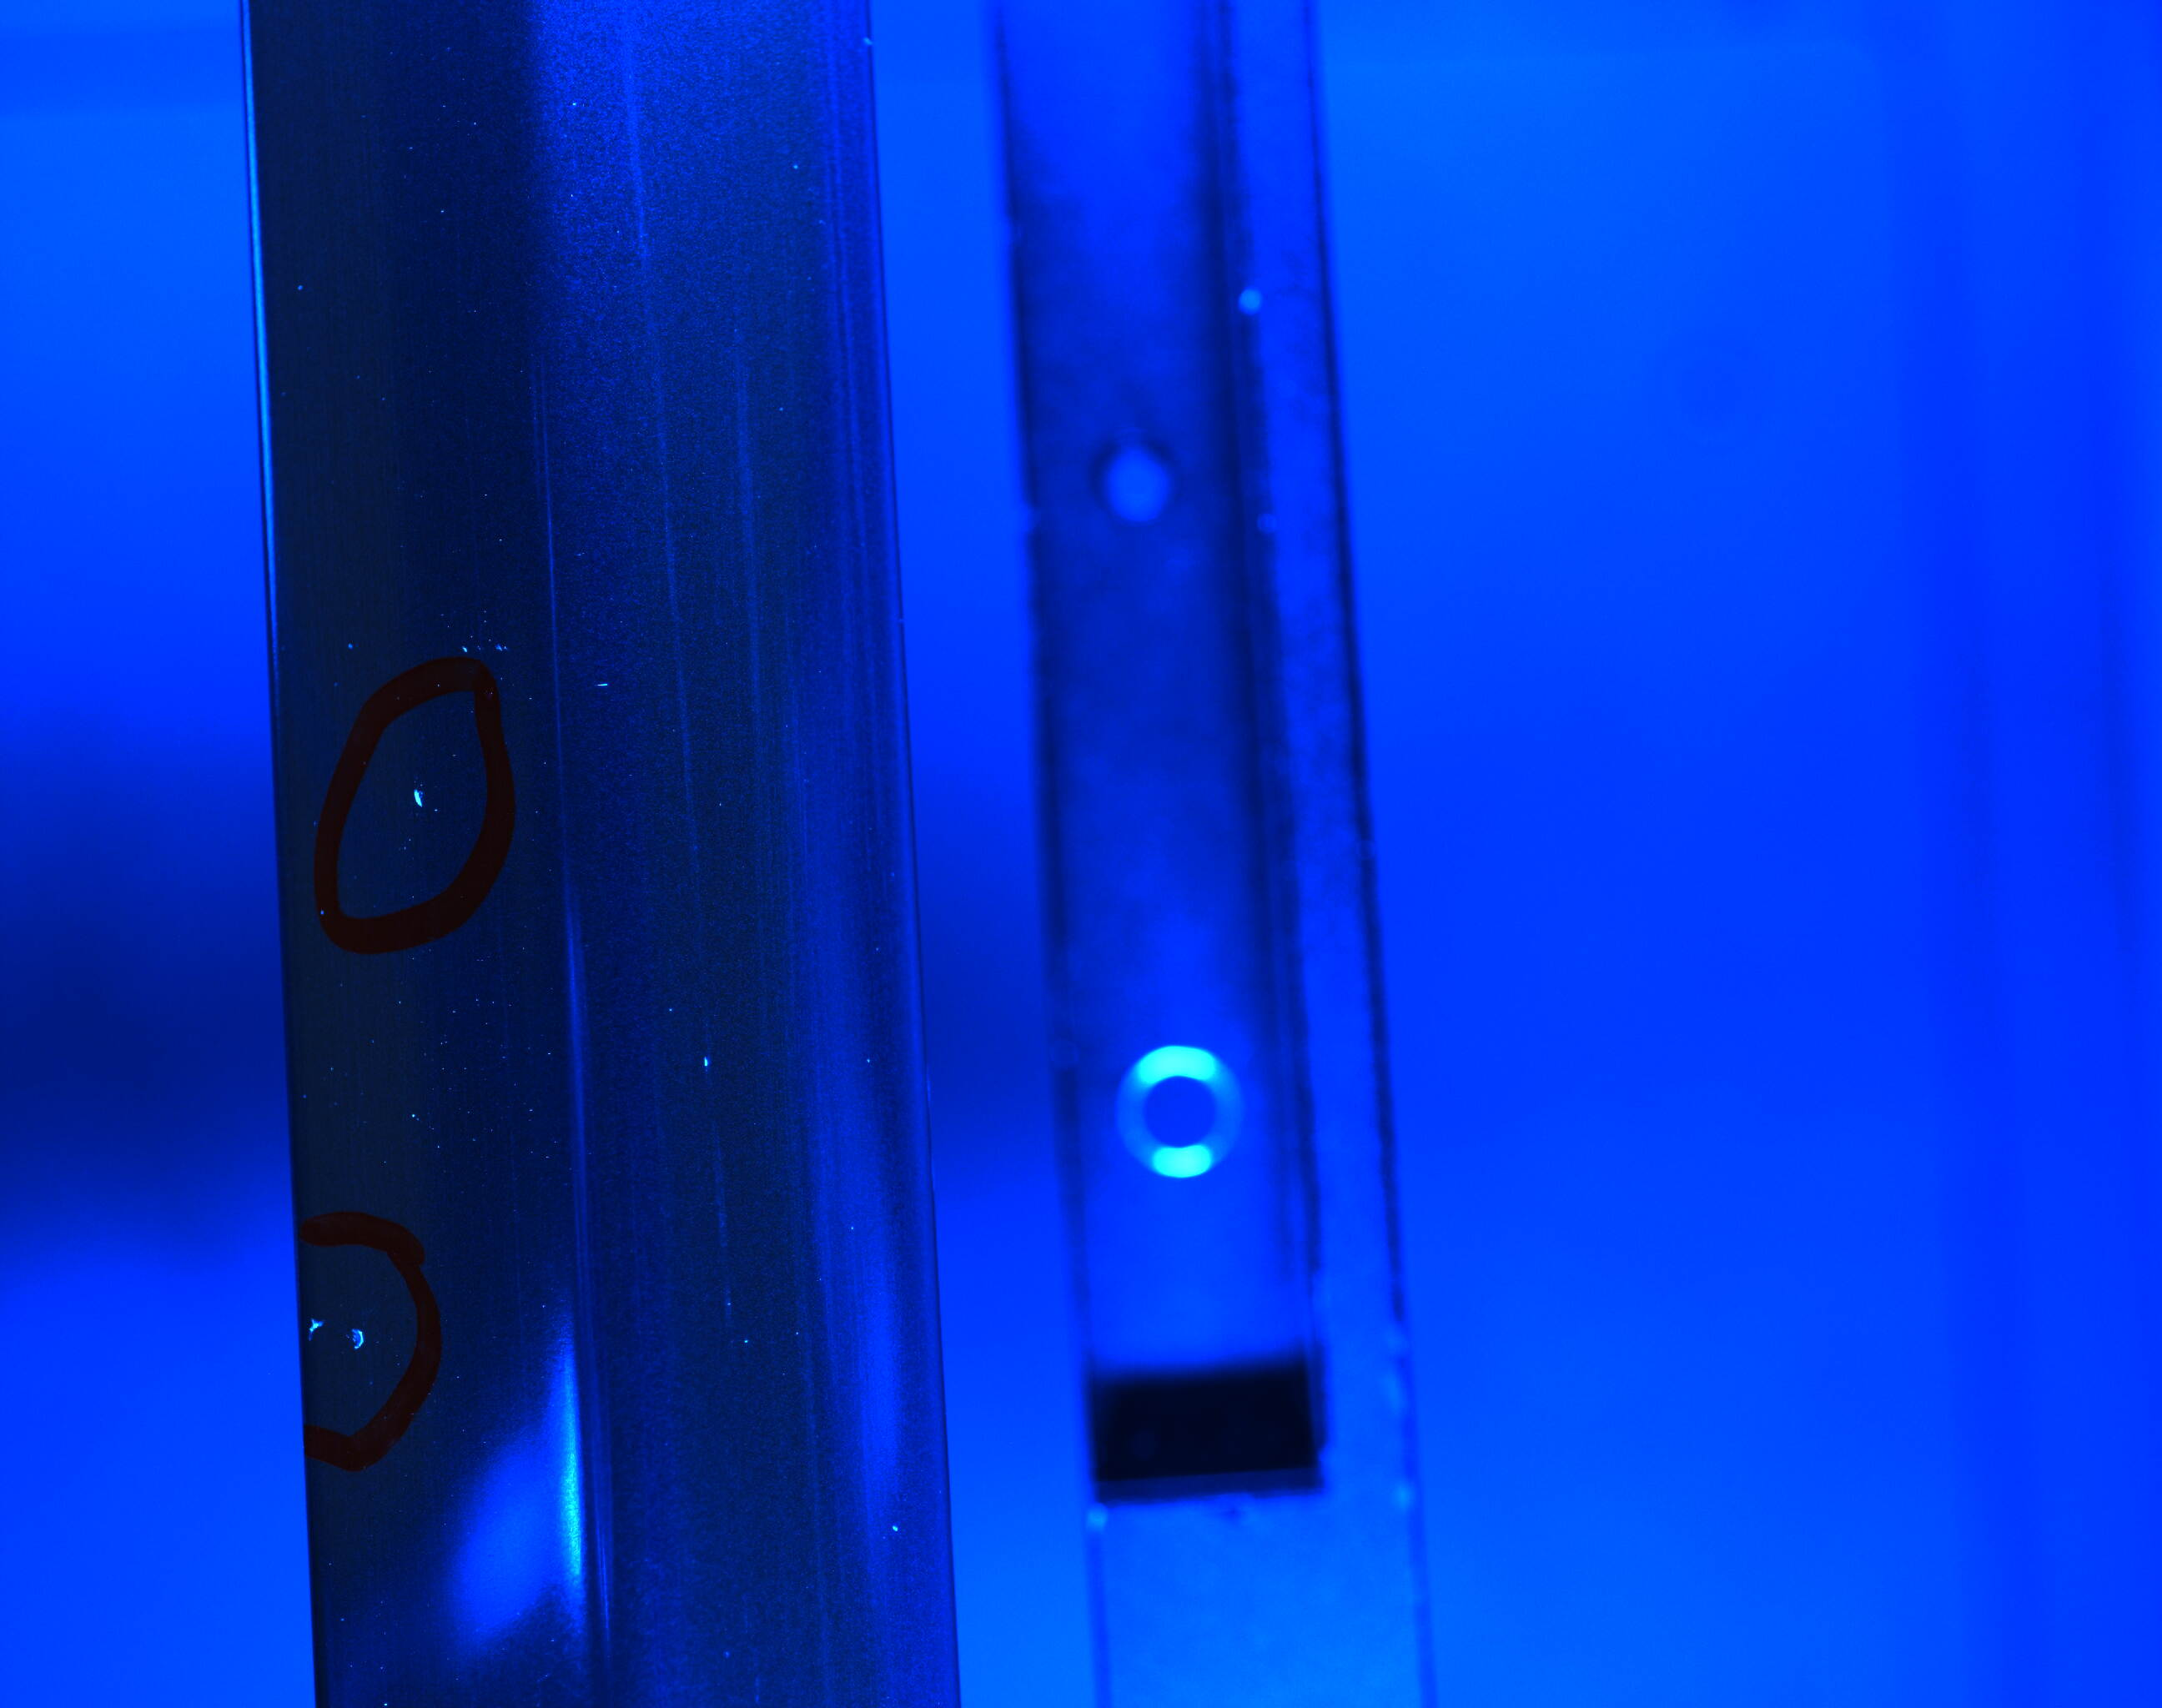NG: (300, 1301, 381, 1385), (400, 753, 444, 853)
